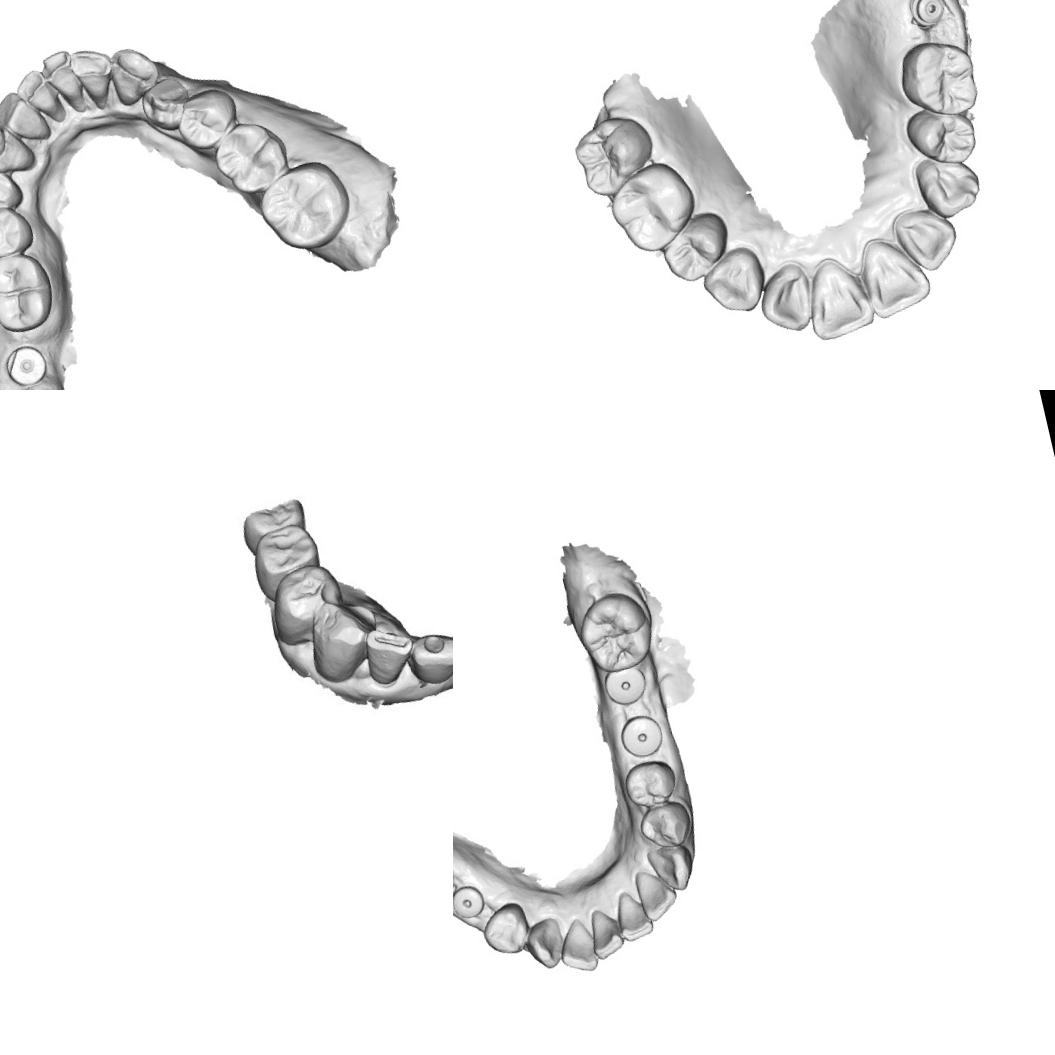canine: (300, 596, 384, 700), (910, 147, 988, 225), (695, 241, 772, 320), (103, 42, 164, 110), (644, 839, 703, 897), (521, 912, 571, 975), (0, 116, 38, 180)
implant: (614, 709, 667, 762), (0, 339, 50, 390), (601, 662, 652, 711), (453, 881, 488, 923), (904, 0, 949, 31)
incisor: (853, 227, 936, 322), (797, 250, 878, 344), (890, 201, 966, 278), (34, 46, 89, 128), (9, 63, 66, 131), (0, 83, 55, 151), (754, 271, 811, 336), (68, 43, 120, 112), (626, 863, 681, 926), (552, 915, 604, 979), (606, 886, 656, 946), (362, 626, 412, 684), (407, 625, 453, 688), (584, 904, 627, 962)
molar: (250, 153, 360, 257), (601, 154, 704, 260), (566, 108, 664, 202), (892, 31, 984, 127), (570, 586, 660, 680), (207, 114, 294, 202), (0, 246, 60, 339)
premolar: (256, 558, 352, 658), (244, 517, 328, 601), (656, 209, 737, 288), (901, 98, 982, 174), (170, 85, 244, 155), (134, 72, 195, 136), (475, 898, 534, 962), (619, 755, 681, 814), (634, 798, 697, 854), (0, 200, 34, 262), (0, 164, 27, 218)
